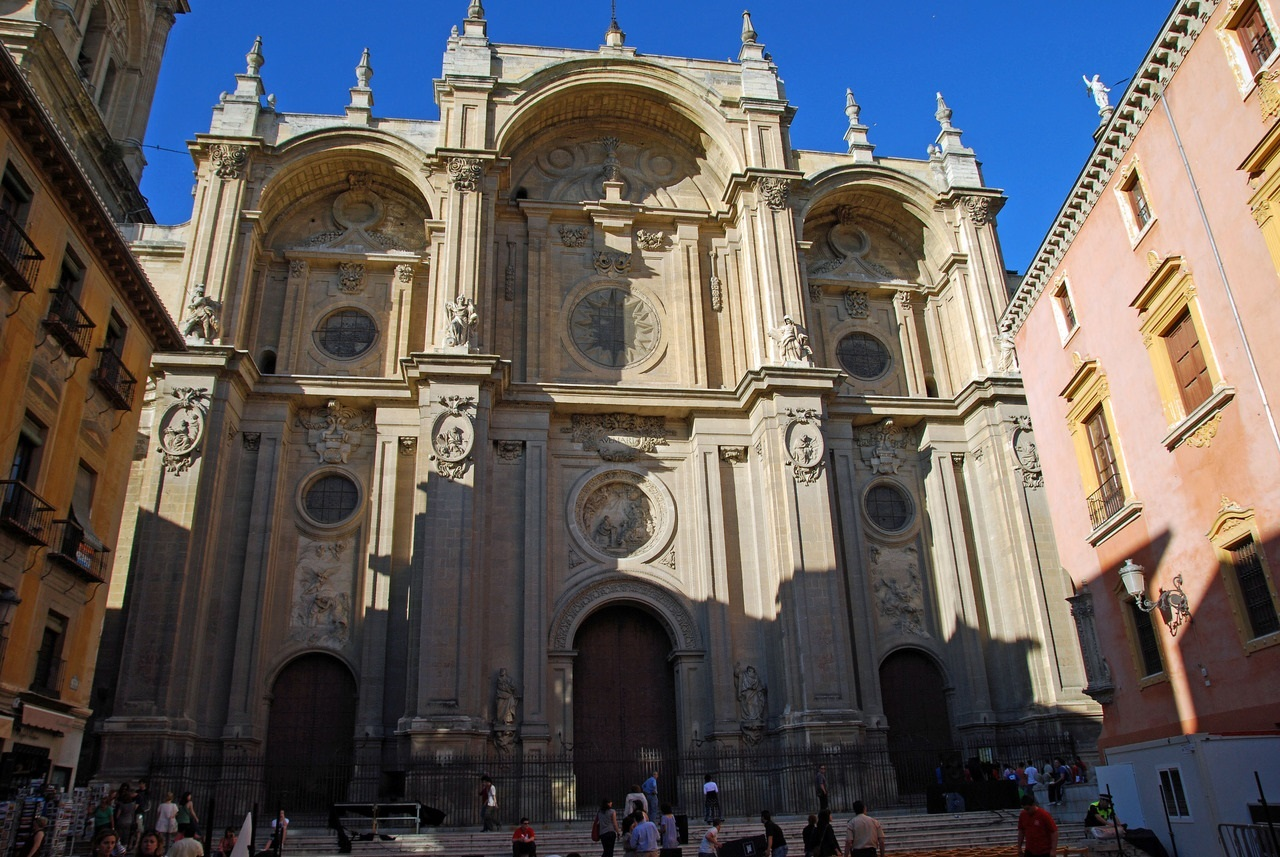arco-medio-punto: (485, 55, 755, 213), (252, 128, 444, 255), (798, 162, 963, 272), (548, 573, 707, 671), (260, 645, 363, 708), (876, 640, 957, 701)
ojo-de-buey: (294, 465, 362, 529), (855, 472, 920, 538), (307, 302, 380, 360), (830, 321, 894, 382)
